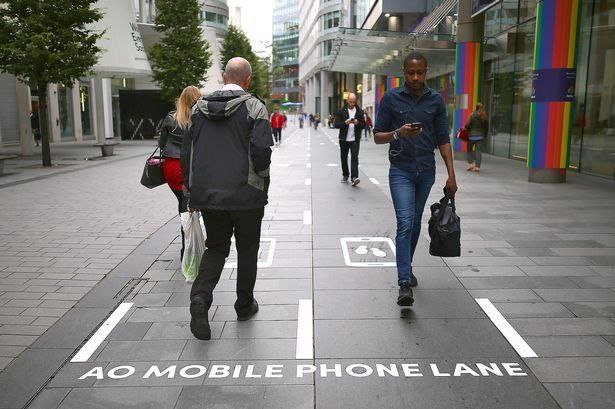sombie: (367, 50, 468, 313), (332, 85, 370, 191)
